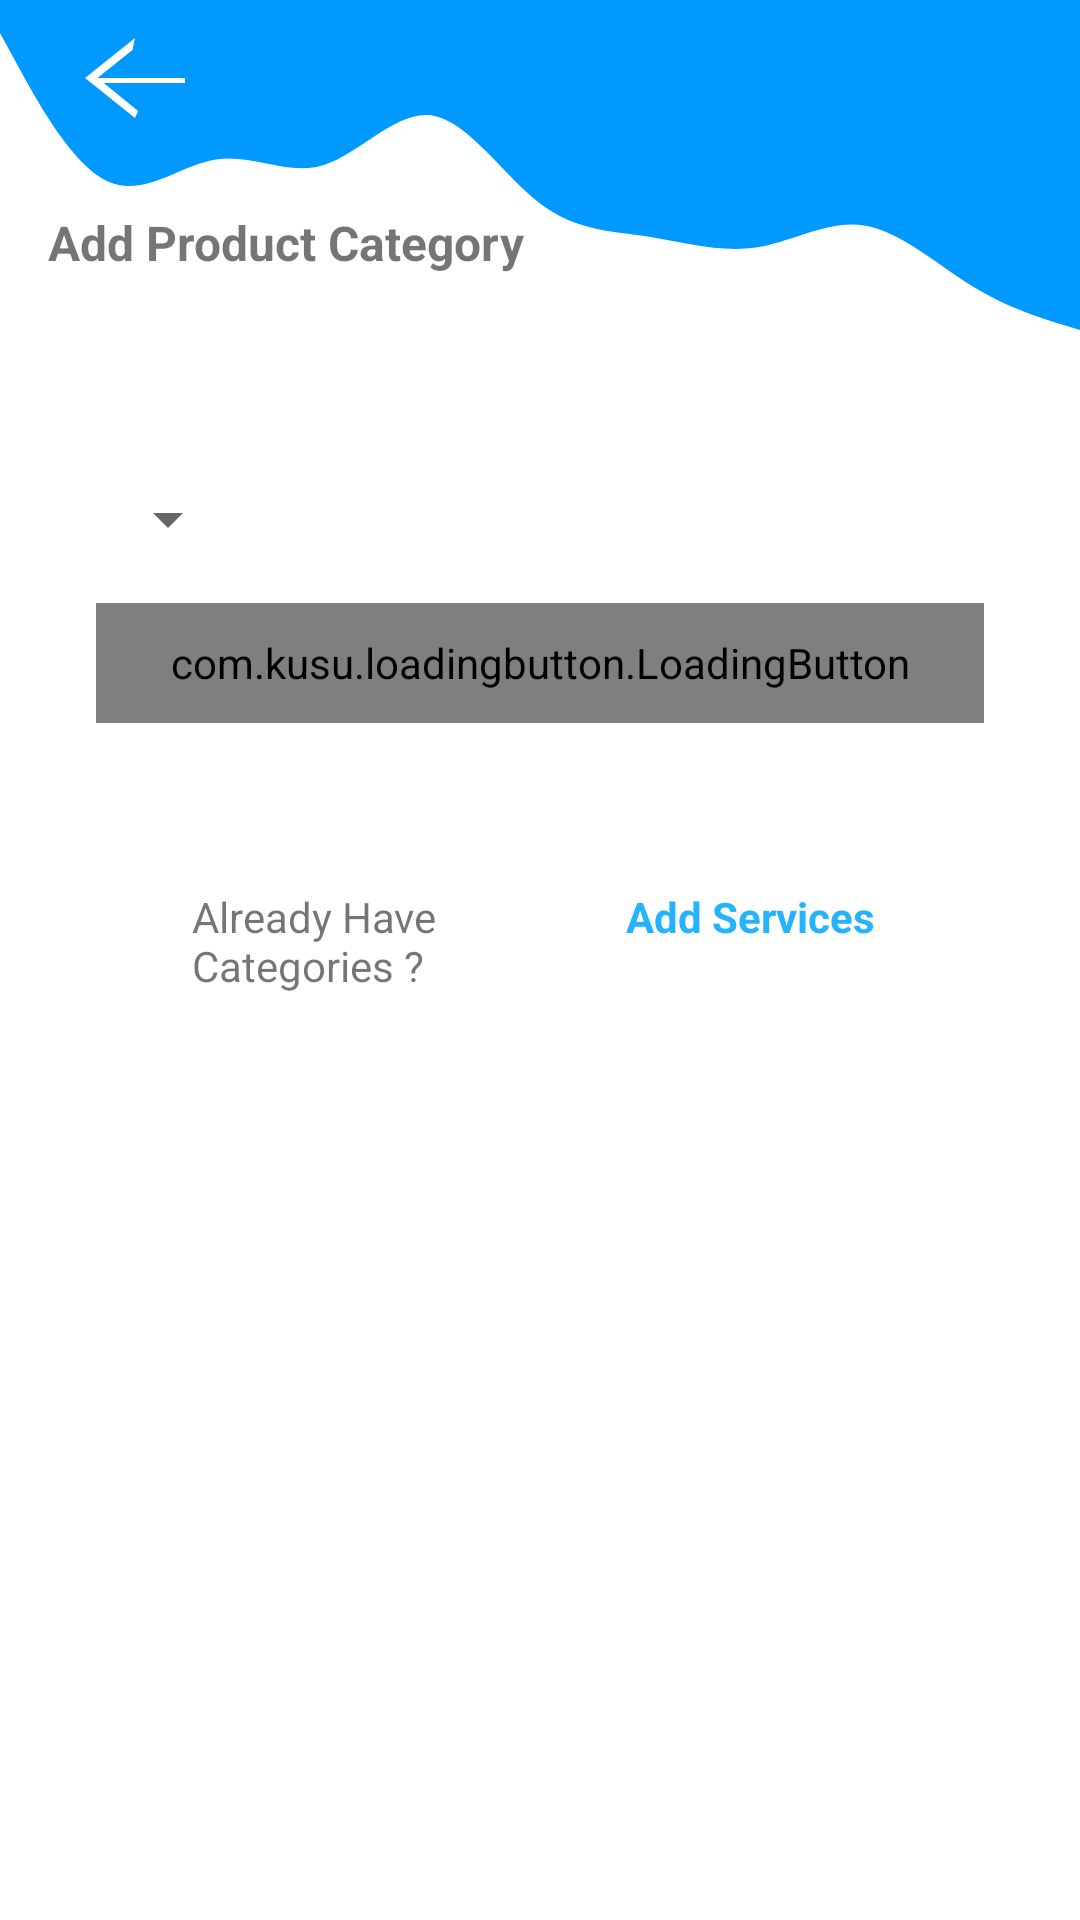

Icons on this 1080×1920 Android screen, each with the point to tap as [x,y]:
back arrow: [135,78]
